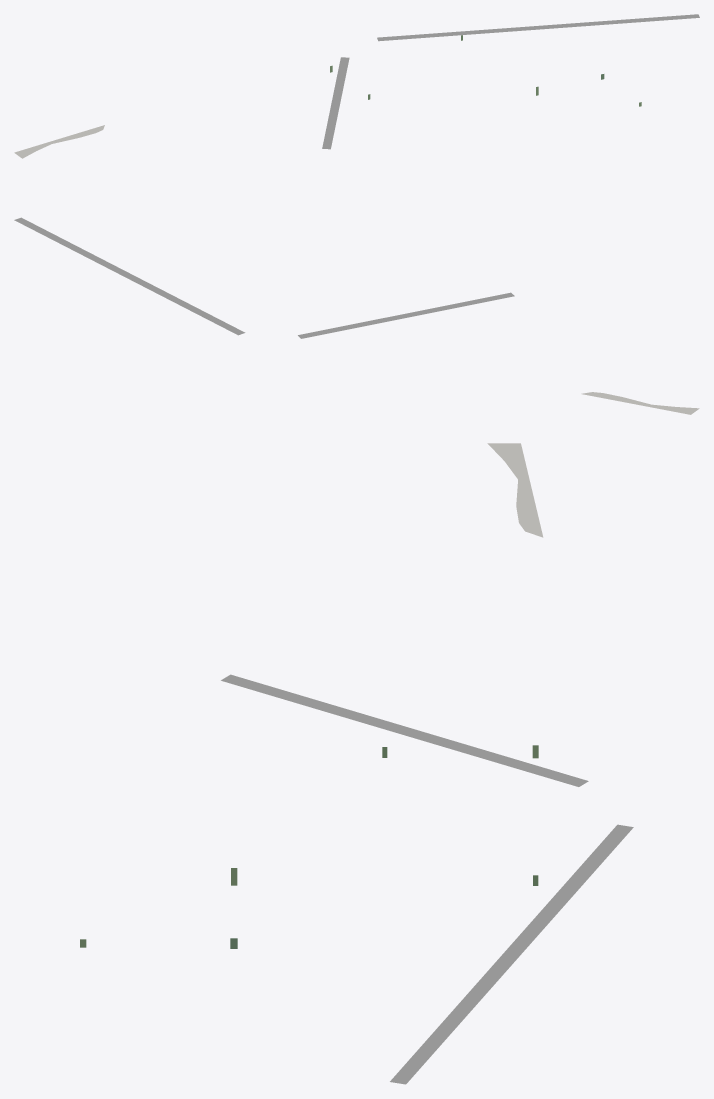
The picture shows the model from 3 angles, top to bottom: view 1: azimuth 30°, elevation 25°; view 2: azimuth 150°, elevation 25°; view 3: azimuth 270°, elevation 25°; orthographic projection. The views are drawn at different scales.
Size of the model in its own units: 603 by 8.06 by 220.
